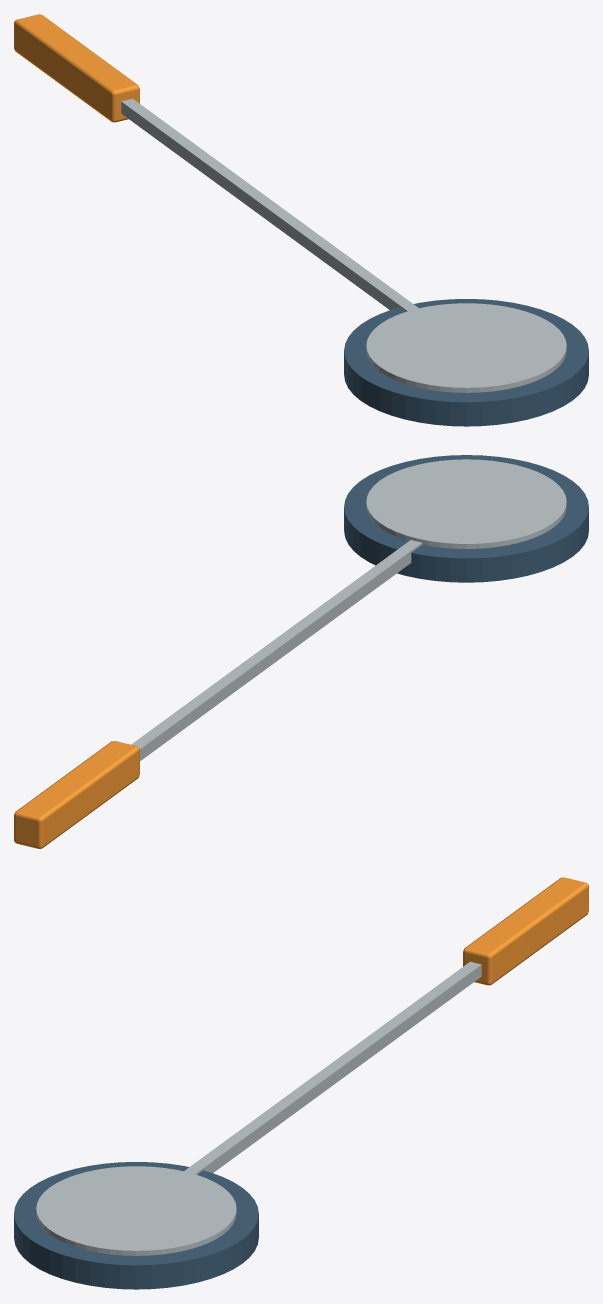
The model's file is container-inspection-and-customs-yard-container-inspec-92376620__29284.glb.
The picture shows the model from 3 angles, top to bottom: view 1: azimuth 30°, elevation 25°; view 2: azimuth 150°, elevation 25°; view 3: azimuth 330°, elevation 25°; orthographic projection.
Visible parts, largest first — view 1: container-inspection-and-customs-yard-inspection-mirror; view 2: container-inspection-and-customs-yard-inspection-mirror; view 3: container-inspection-and-customs-yard-inspection-mirror.
Part boxes in pixels (box(x1,y1,x2,y2)): container-inspection-and-customs-yard-inspection-mirror: box(14, 14, 588, 426); container-inspection-and-customs-yard-inspection-mirror: box(14, 455, 588, 848); container-inspection-and-customs-yard-inspection-mirror: box(14, 877, 588, 1289).
Size of the model in its own units: 0.22 by 0.037 by 0.9.
